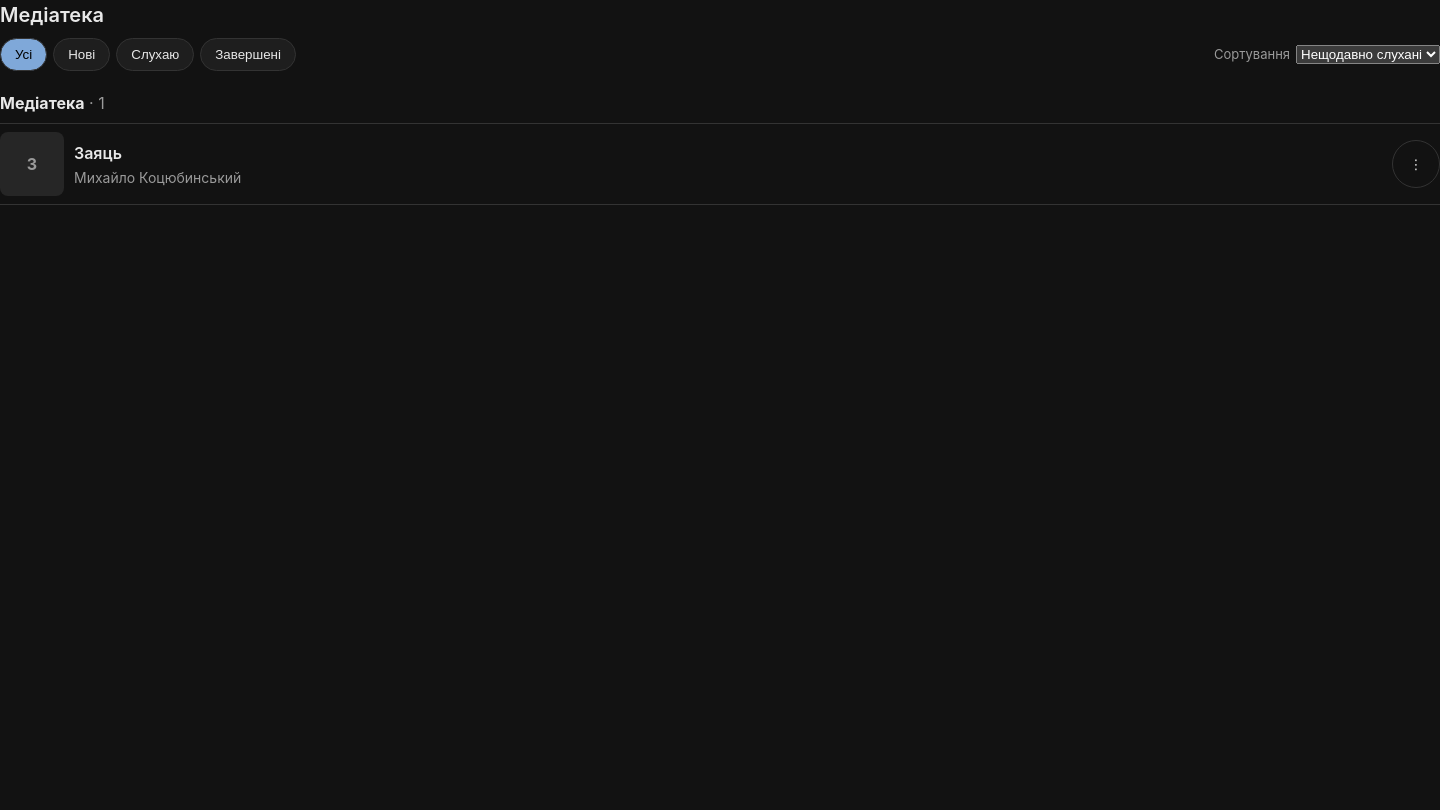
Library › tier 1 — «прибрати з медіатеки» cascades immediately from the options sheet
Expected: the text "Заяць" is shown, [74,142,122,162]
// Tier 1: the row's ⋮ action opens the options sheet (Android's flow).
Click the button named "Дії з книгою: Заяць" at {"x": 1416, "y": 164}, box [1392,140,1439,188]
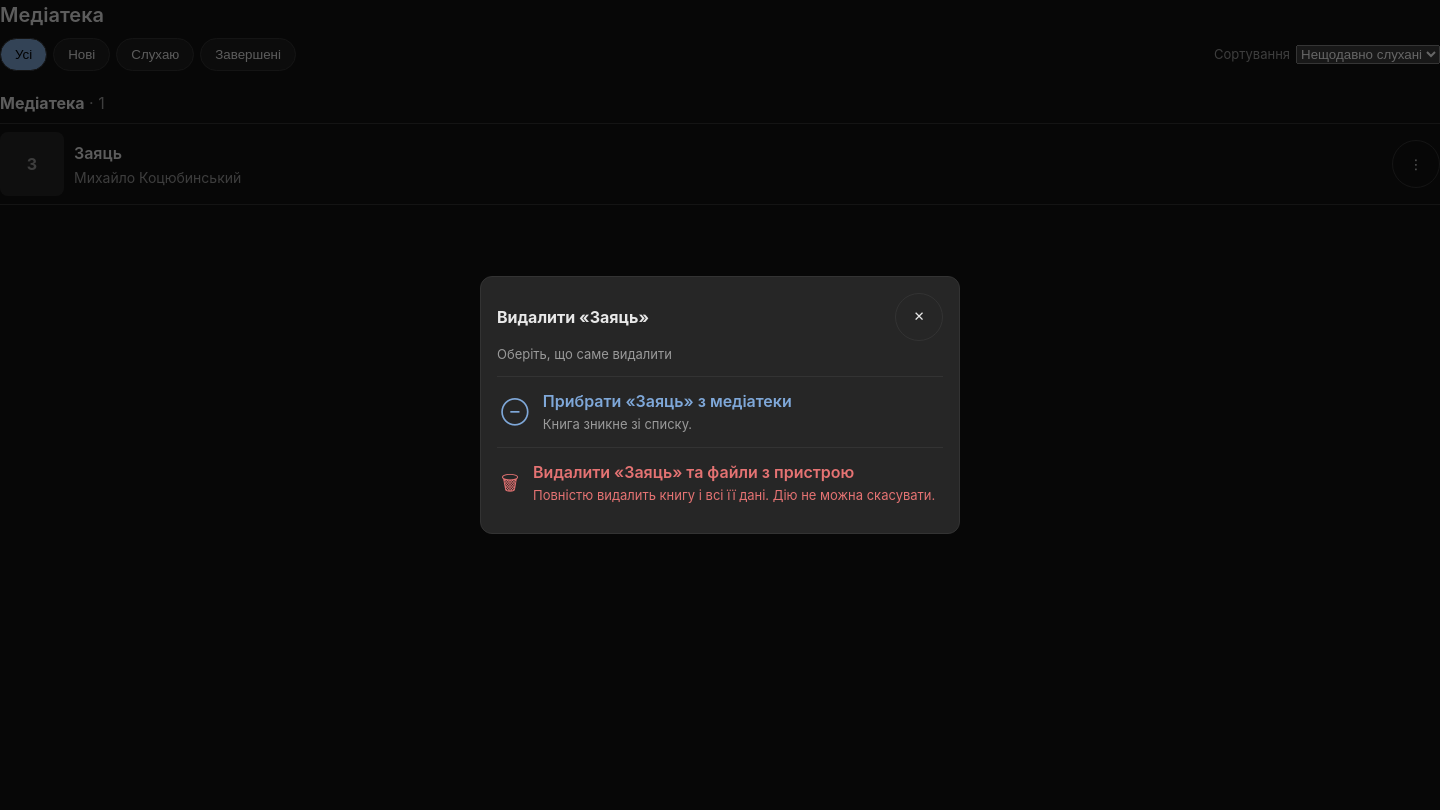
Now the dialog "Видалити «Заяць»" is shown, box [480,276,960,534]
Now the text "Книга зникне зі списку." is shown, box [543,416,692,432]
Now the text "Повністю видалить книгу і всі її дані. Дію не можна скасувати." is shown, box [533,486,935,505]
Click the button "⊖ Прибрати «Заяць» з медіатеки Книга зникне зі списку." at {"x": 720, "y": 412}, box [497,376,943,447]
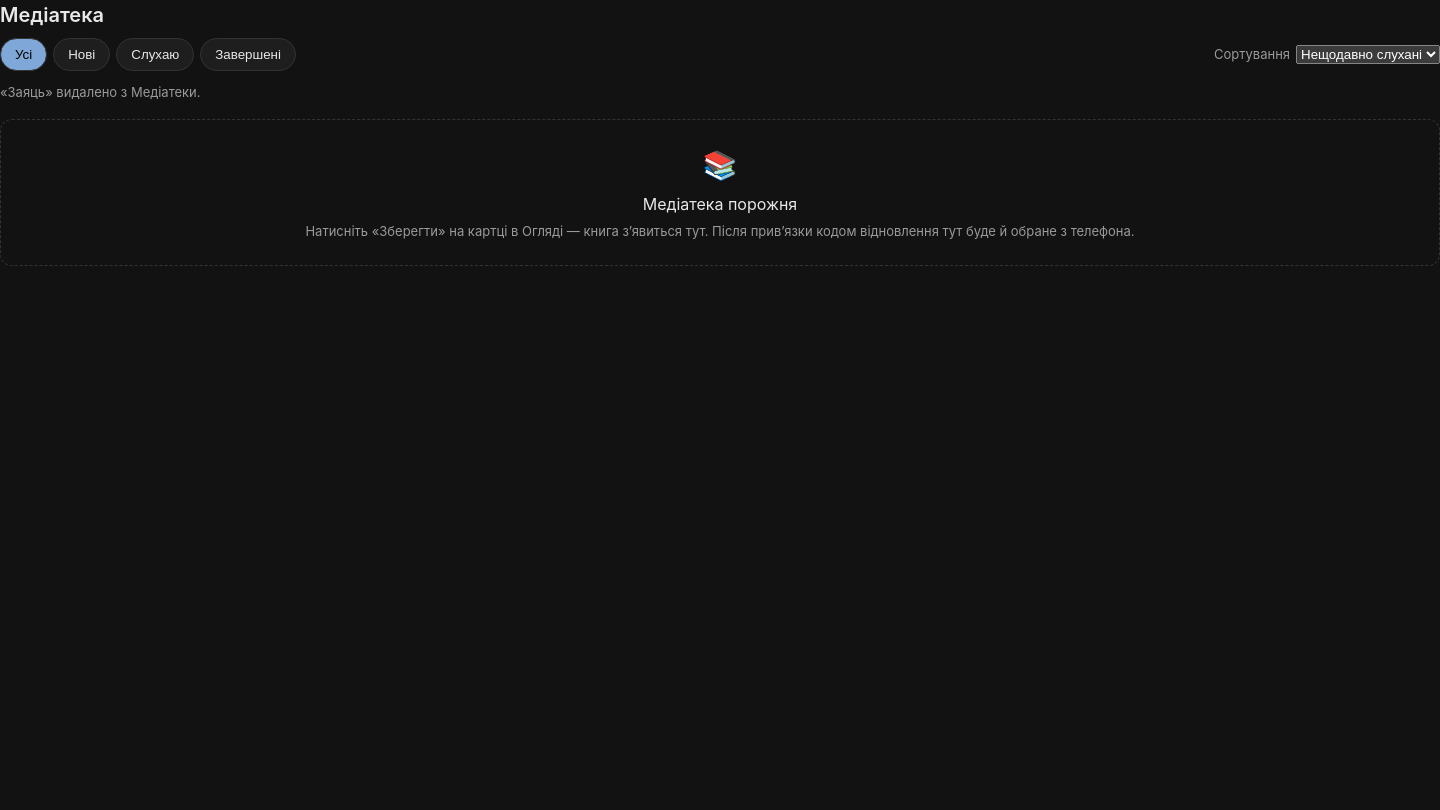
Now the text "«Заяць» видалено з Медіатеки." is shown, box [0,84,200,100]
